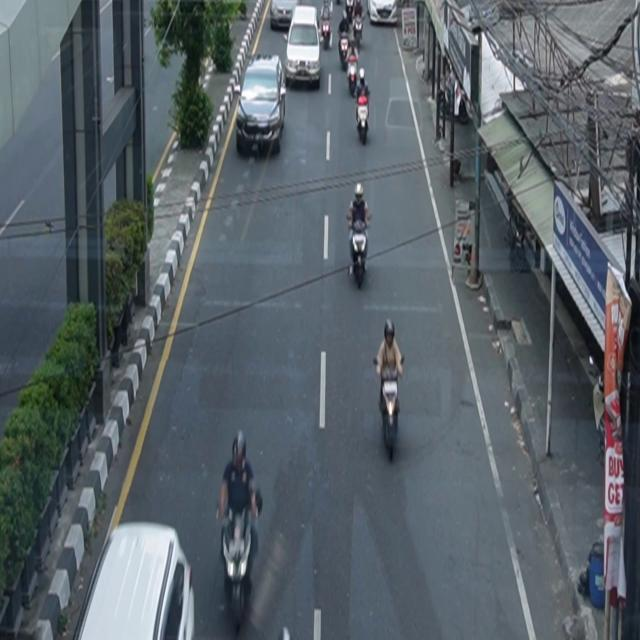car: (74, 522, 196, 640), (236, 53, 287, 157)
